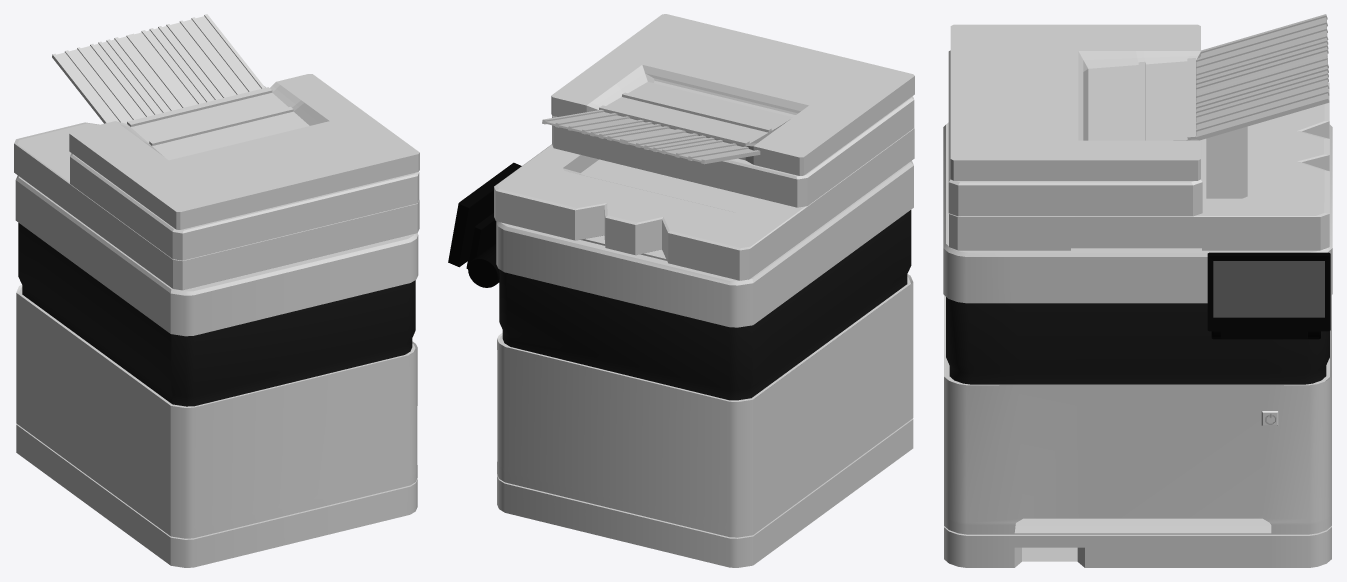
File: CopyPrintMachine.fbx
The picture shows the model from 3 angles, left to right: view 1: azimuth 30°, elevation 25°; view 2: azimuth 150°, elevation 25°; view 3: azimuth 270°, elevation 25°; orthographic projection. The views are drawn at different scales.
Visible parts, largest first — view 1: Printer, Printer.009, Printer.001, Printer.006, Printer.005; view 2: Printer, Printer.009, Printer.001, Printer.005, Printer.006, SmallScreenPad, ScreenPadHolder, ScreenPadBack; view 3: Printer, Printer.009, Printer.001, Printer.006, SmallScreenPad, Printer.005, ScreenPadBack.
Boxes of the visible parts, x1,y1,x2,y2 form: Printer: [15, 175, 418, 567]; Printer.009: [69, 74, 419, 229]; Printer.001: [14, 86, 419, 290]; Printer.006: [52, 14, 264, 123]; Printer.005: [70, 153, 419, 260]; Printer: [496, 161, 913, 567]; Printer.009: [551, 14, 914, 175]; Printer.001: [494, 128, 914, 280]; Printer.005: [552, 96, 914, 207]; Printer.006: [542, 110, 760, 164]; SmallScreenPad: [448, 162, 521, 267]; ScreenPadHolder: [468, 243, 499, 287]; ScreenPadBack: [466, 213, 496, 268]; Printer: [943, 122, 1332, 567]; Printer.009: [950, 24, 1200, 180]; Printer.001: [949, 82, 1329, 250]; Printer.006: [1196, 14, 1329, 140]; SmallScreenPad: [1207, 252, 1330, 331]; Printer.005: [948, 50, 1202, 216]; ScreenPadBack: [1220, 331, 1307, 339].
Bounding box in the file's own units: 1363 × 1750 × 1398.
Materials: 6 (1 with a texture image).
